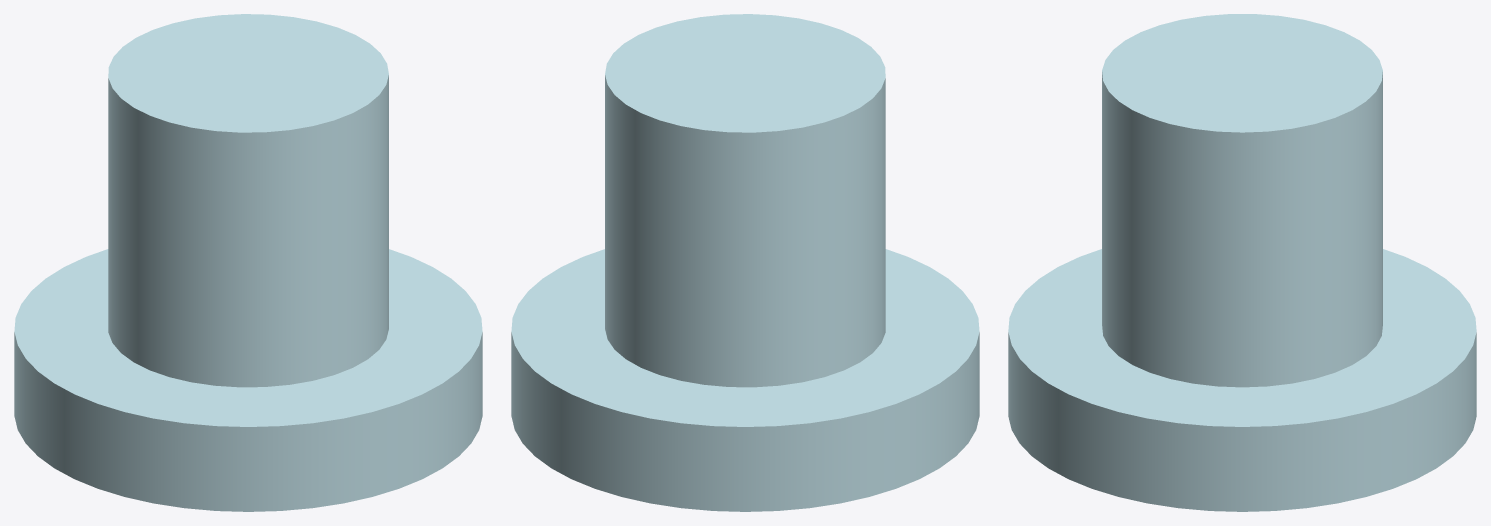
Rendered from light_pipe.glb.
The picture shows the model from 3 angles, left to right: view 1: azimuth 30°, elevation 25°; view 2: azimuth 150°, elevation 25°; view 3: azimuth 270°, elevation 25°; orthographic projection.
Parts seen in each view (by area): view 1: light_pipe; view 2: light_pipe; view 3: light_pipe.
Boxes of the visible parts, x1,y1,x2,y2 form: light_pipe: [14, 14, 482, 511]; light_pipe: [511, 14, 979, 511]; light_pipe: [1008, 14, 1476, 511].
Bounding box in the file's own units: 0.00499 × 0.004 × 0.005.
